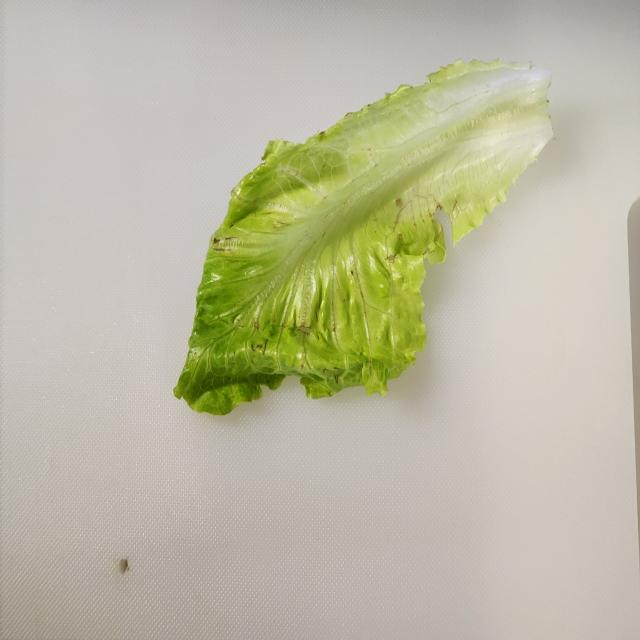lettuce: (172, 56, 554, 416)
